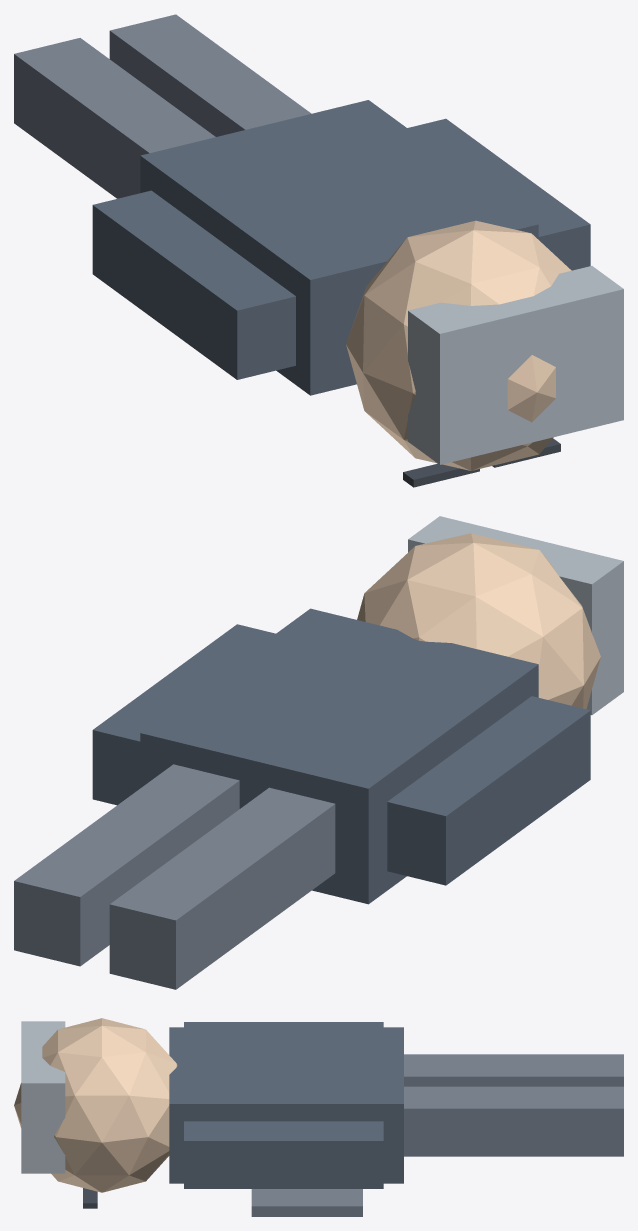
The model's file is legal_variant_5.glb.
3 views of the same model, one above another, from view 1: azimuth 30°, elevation 25°; view 2: azimuth 150°, elevation 25°; view 3: azimuth 270°, elevation 25° (orthographic). The views are drawn at different scales.
Visible parts, largest first — view 1: torso_2, hair_6, head_5, arm_l_3, leg_l_0, leg_r_1, arm_r_4, glasses_l_7; view 2: torso_2, leg_l_0, head_5, arm_l_3, leg_r_1, arm_r_4, hair_6; view 3: torso_2, head_5, leg_r_1, arm_r_4, leg_l_0, hair_6, tablet_9, arm_l_3, glasses_r_8.
Part boxes in pixels (x1,y1,x2,y2): torso_2: (140, 100, 538, 395); hair_6: (408, 266, 623, 464); head_5: (346, 220, 571, 470); arm_l_3: (92, 190, 295, 379); leg_l_0: (14, 38, 215, 198); leg_r_1: (109, 14, 311, 136); arm_r_4: (407, 118, 590, 270); glasses_l_7: (403, 463, 479, 487); torso_2: (140, 608, 538, 904); leg_l_0: (109, 787, 335, 989); head_5: (357, 533, 600, 709); arm_l_3: (387, 696, 590, 885); leg_r_1: (14, 764, 239, 966); arm_r_4: (92, 624, 275, 805); hair_6: (408, 516, 623, 715); torso_2: (169, 1027, 403, 1183); head_5: (14, 1018, 177, 1192); leg_r_1: (404, 1086, 623, 1156); arm_r_4: (184, 1121, 383, 1188); leg_l_0: (404, 1054, 623, 1086); hair_6: (21, 1021, 65, 1173); tablet_9: (251, 1189, 362, 1216); arm_l_3: (184, 1022, 383, 1027); glasses_r_8: (83, 1188, 97, 1208).
Size of the model in its own units: 0.96 by 0.6 by 2.08.
